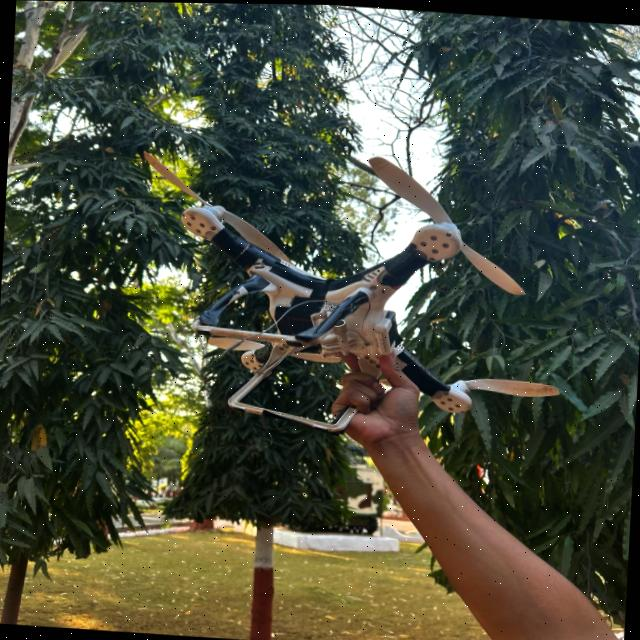drone: (111, 136, 594, 471)
